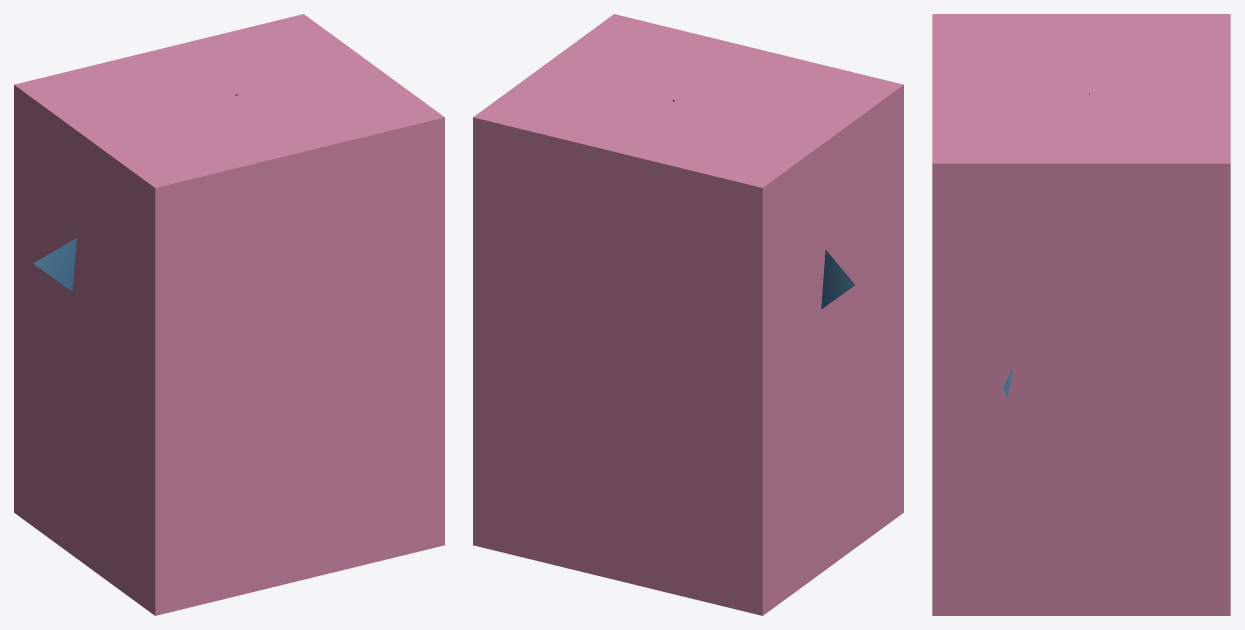
File: tree_aspen_bush_c.dae
3 renders of one model, left to right at view 1: azimuth 30°, elevation 25°; view 2: azimuth 150°, elevation 25°; view 3: azimuth 270°, elevation 25°, orthographic. The views are drawn at different scales.
Visible parts, largest first — view 1: Untitled, tree_oak_bush_a110; view 2: Untitled, tree_oak_bush_a110; view 3: Untitled.
Boxes of the visible parts, x1,y1,x2,y2 form: Untitled: (14,14,444,615); tree_oak_bush_a110: (33,94,237,291); Untitled: (473,14,903,615); tree_oak_bush_a110: (673,100,854,309); Untitled: (932,14,1230,615).
Size of the model in its own units: 3.32 by 2.36 by 4.1.
